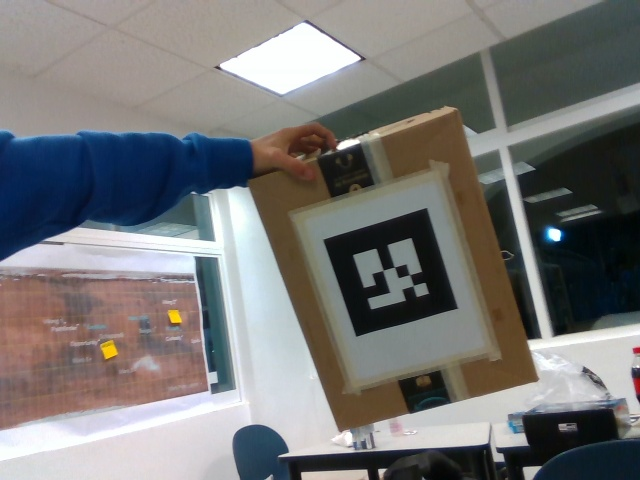ar2: (320, 209, 462, 343)
